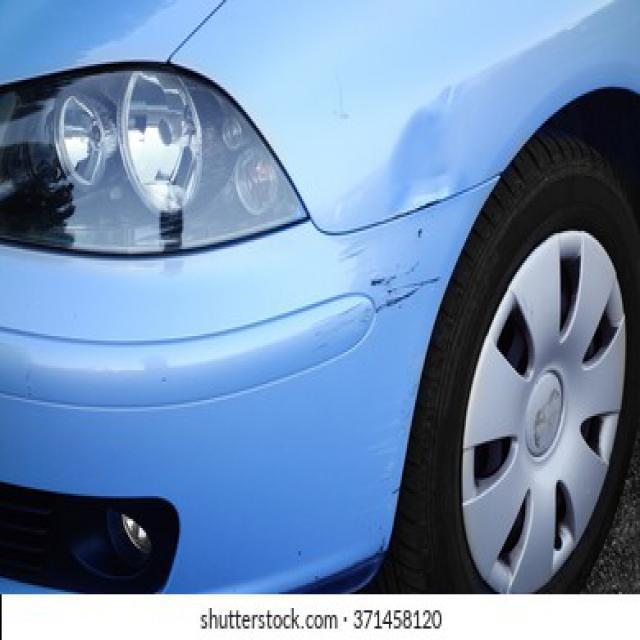fender-dent: (240, 0, 639, 256)
front-bumper-dent: (99, 224, 452, 594)
